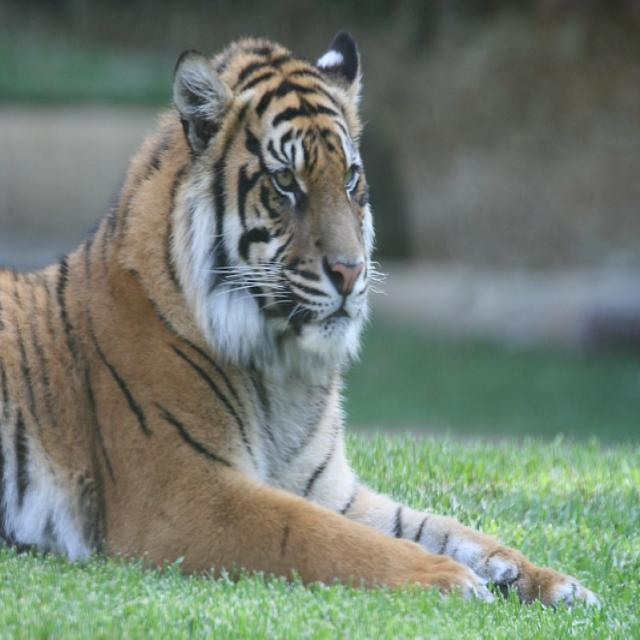Tiger: (8, 18, 497, 590)
